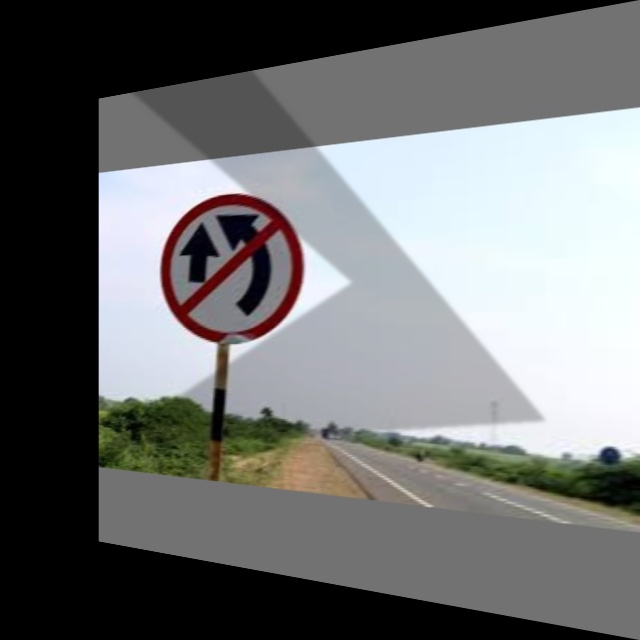Overtaking_Prohibited: (167, 189, 298, 340)
